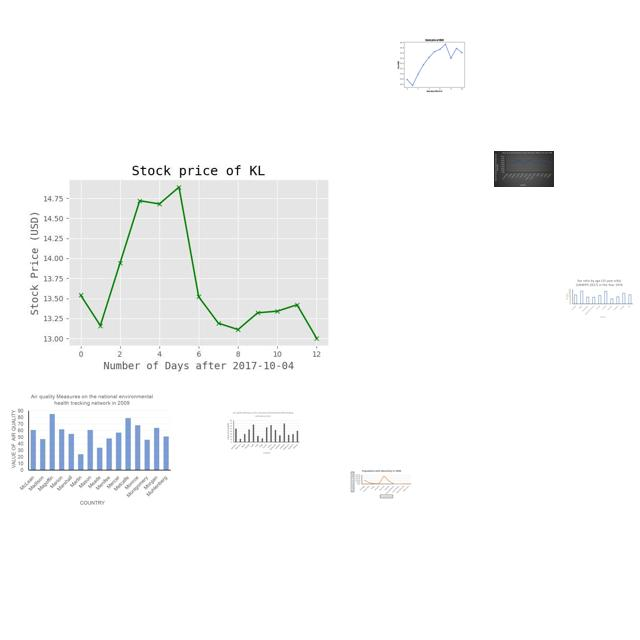Graph: (27, 136, 362, 387), (6, 390, 174, 508), (394, 35, 473, 94), (225, 410, 301, 456), (564, 278, 634, 319), (494, 151, 554, 187), (350, 468, 413, 500)
